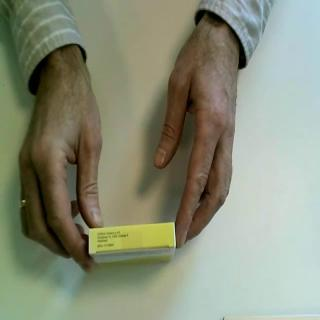buprefarm5ug_hour: (88, 221, 178, 271)
